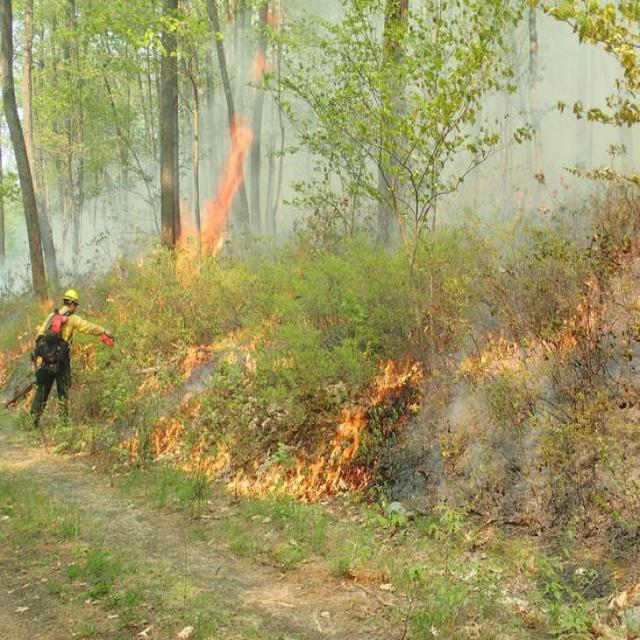Fire: (127, 394, 420, 539), (161, 92, 255, 276)
